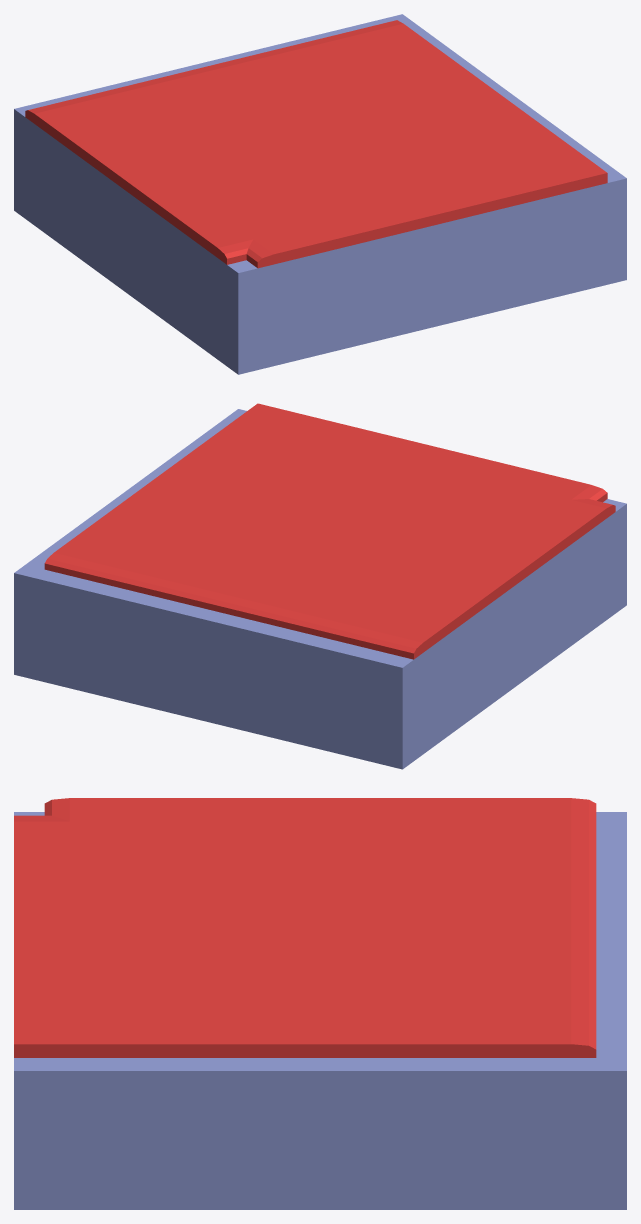
Rendered from tilePathCorner.fbx.
3 views of the same model, one above another, from view 1: azimuth 30°, elevation 25°; view 2: azimuth 150°, elevation 25°; view 3: azimuth 270°, elevation 25° (orthographic). The views are drawn at different scales.
Parts seen in each view (by area): view 1: tilePathCorner; view 2: tilePathCorner; view 3: tilePathCorner.
Boxes of the visible parts, left/top/right/bottom form: tilePathCorner: left=14, top=14, right=626, bottom=374; tilePathCorner: left=14, top=403, right=626, bottom=769; tilePathCorner: left=14, top=798, right=626, bottom=1209.
Size of the model in its own units: 400 by 110 by 400.
